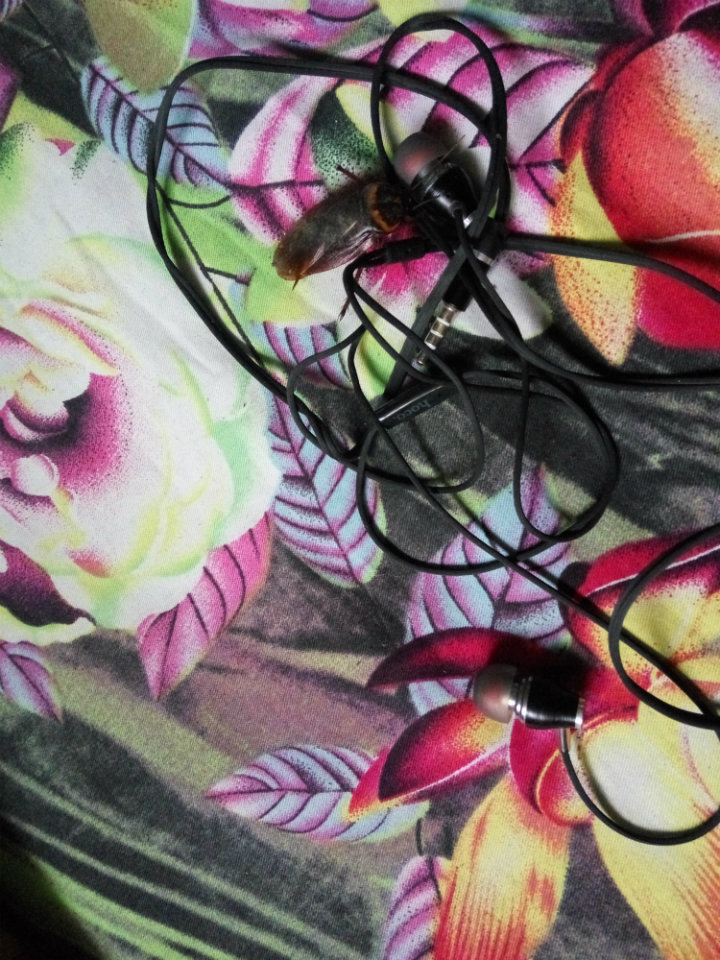cockroach: (231, 156, 450, 294)
